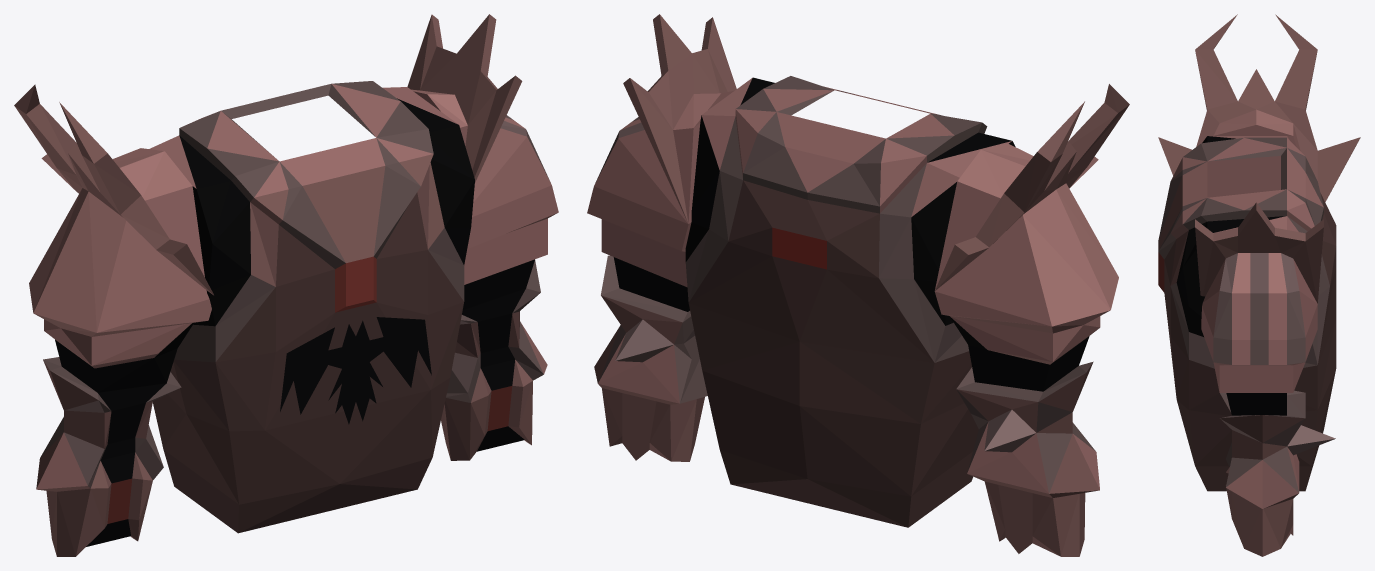
Rendered from player_oathplate_chest.glb.
The picture shows the model from 3 angles, left to right: view 1: azimuth 30°, elevation 25°; view 2: azimuth 150°, elevation 25°; view 3: azimuth 270°, elevation 25°; orthographic projection. The views are drawn at different scales.
Bounding box in the file's own units: 75 × 65.02 × 33.01.
Materials: 1 (1 with a texture image).
